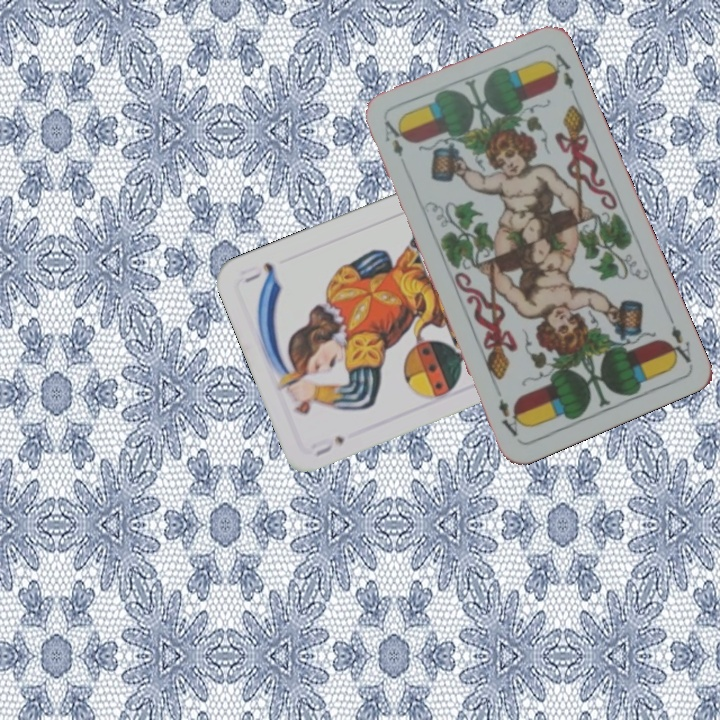EA: (662, 310, 694, 366), (380, 116, 406, 160)
SU: (307, 431, 348, 459)
